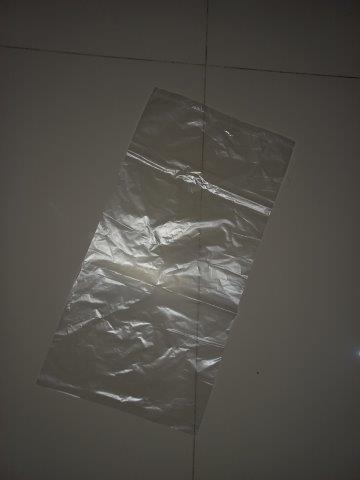plastik: (33, 87, 300, 438)
